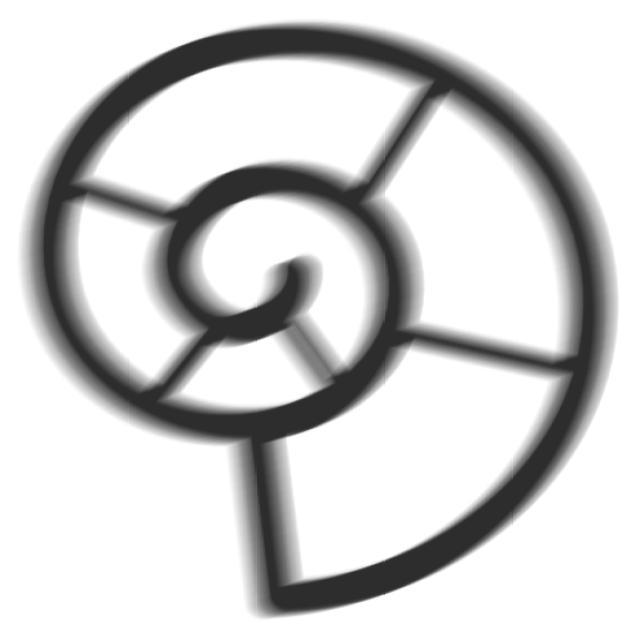fossil: (11, 13, 628, 632)
